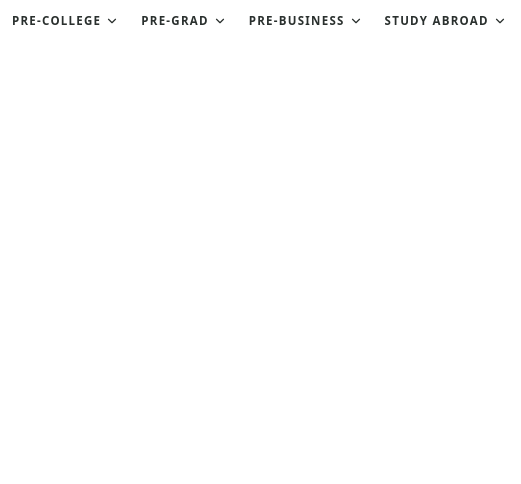
PrimaryNav › opens only one panel at a time
Click the button "Pre-College" at (66, 21), box [12, 12, 119, 29]
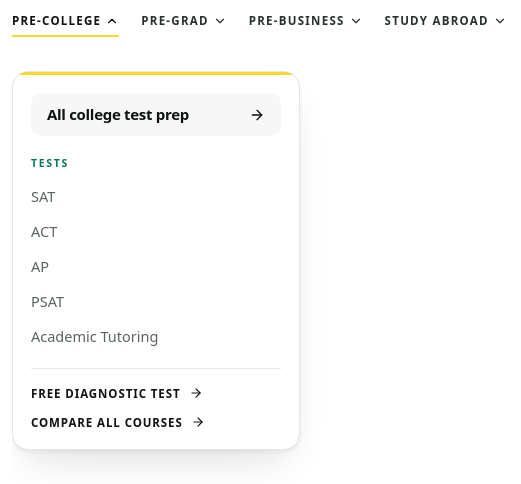
Click the button "Pre-Grad" at (184, 21), box [141, 12, 227, 29]
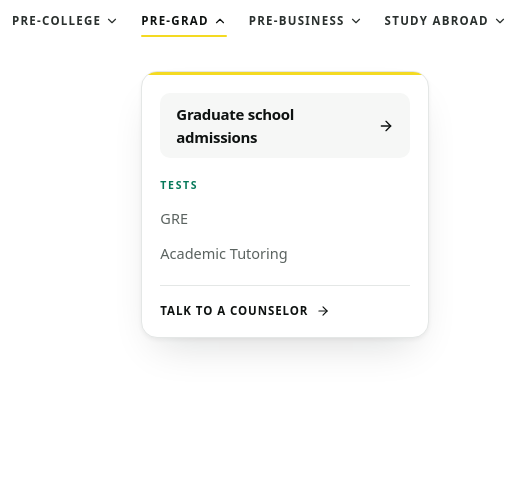
Expected: the button "Pre-College" is collapsed, [12, 12, 119, 29]
Expected: the button "Pre-Grad" is expanded, [141, 12, 227, 29]
